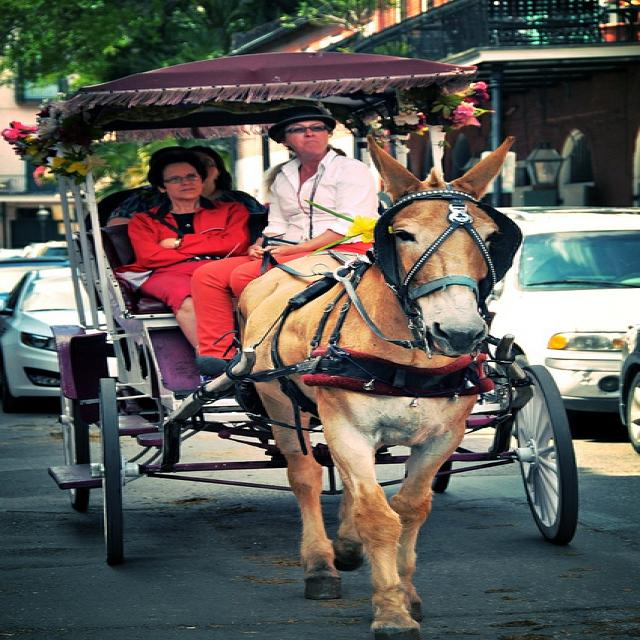Vehicle: (484, 205, 640, 428), (0, 267, 85, 398), (612, 363, 637, 453), (16, 237, 69, 259)
